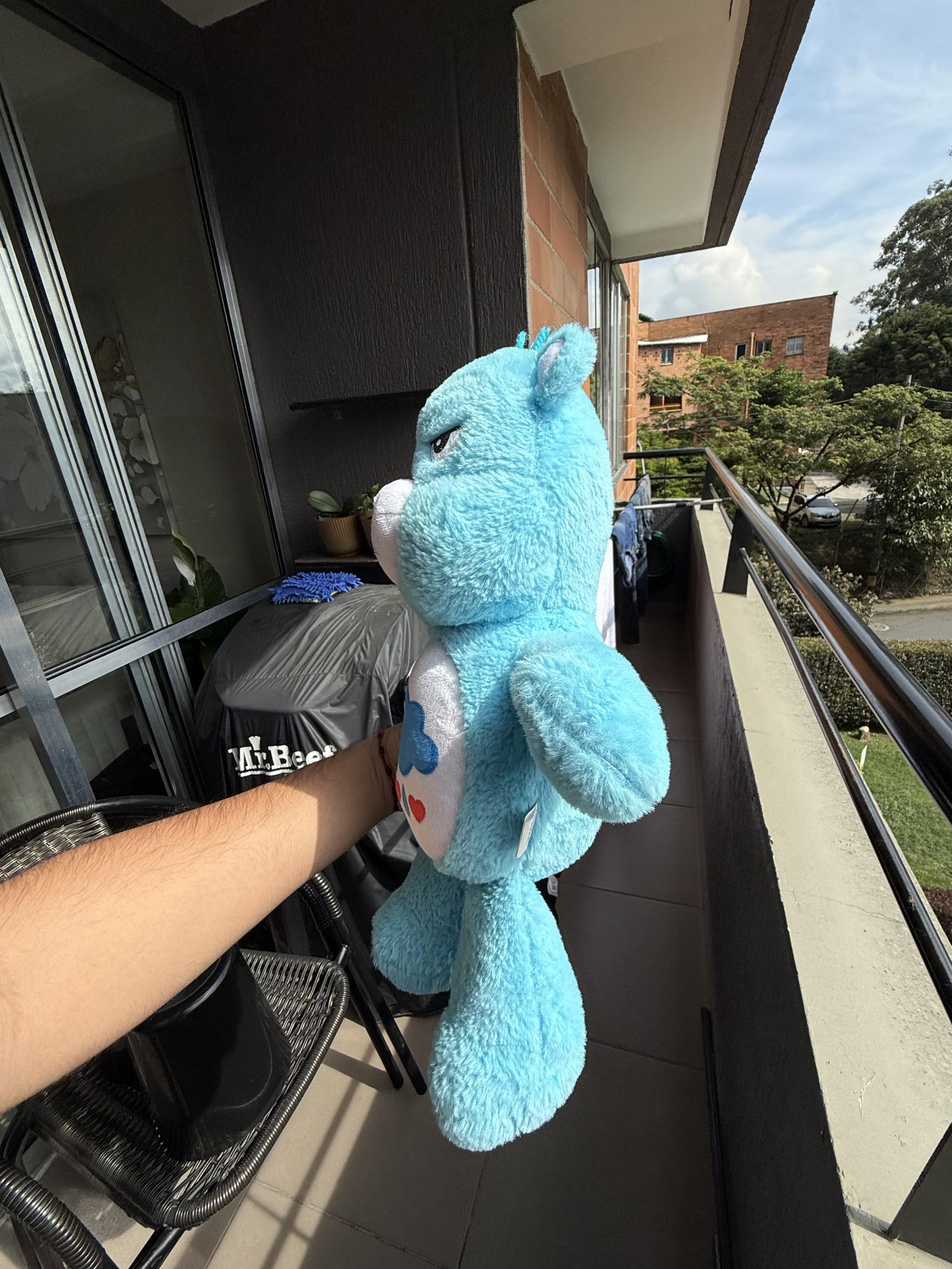peluche_Juan Jose: (368, 310, 631, 1142)
